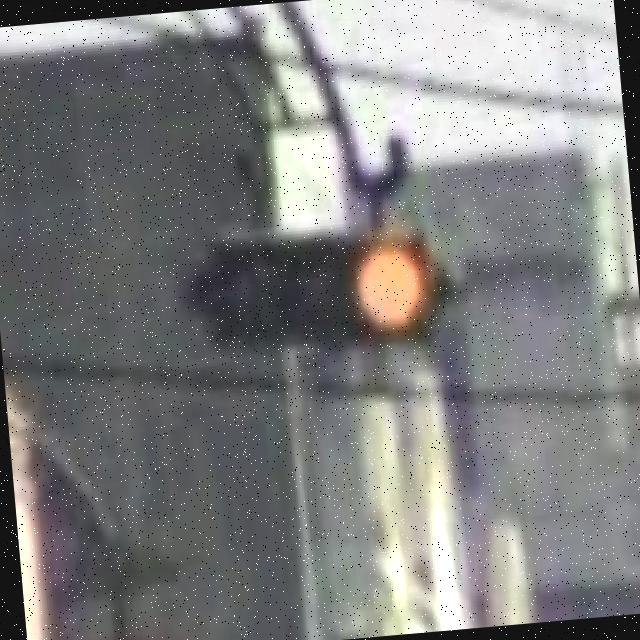Czerwone swiatlo: (203, 222, 448, 364)
